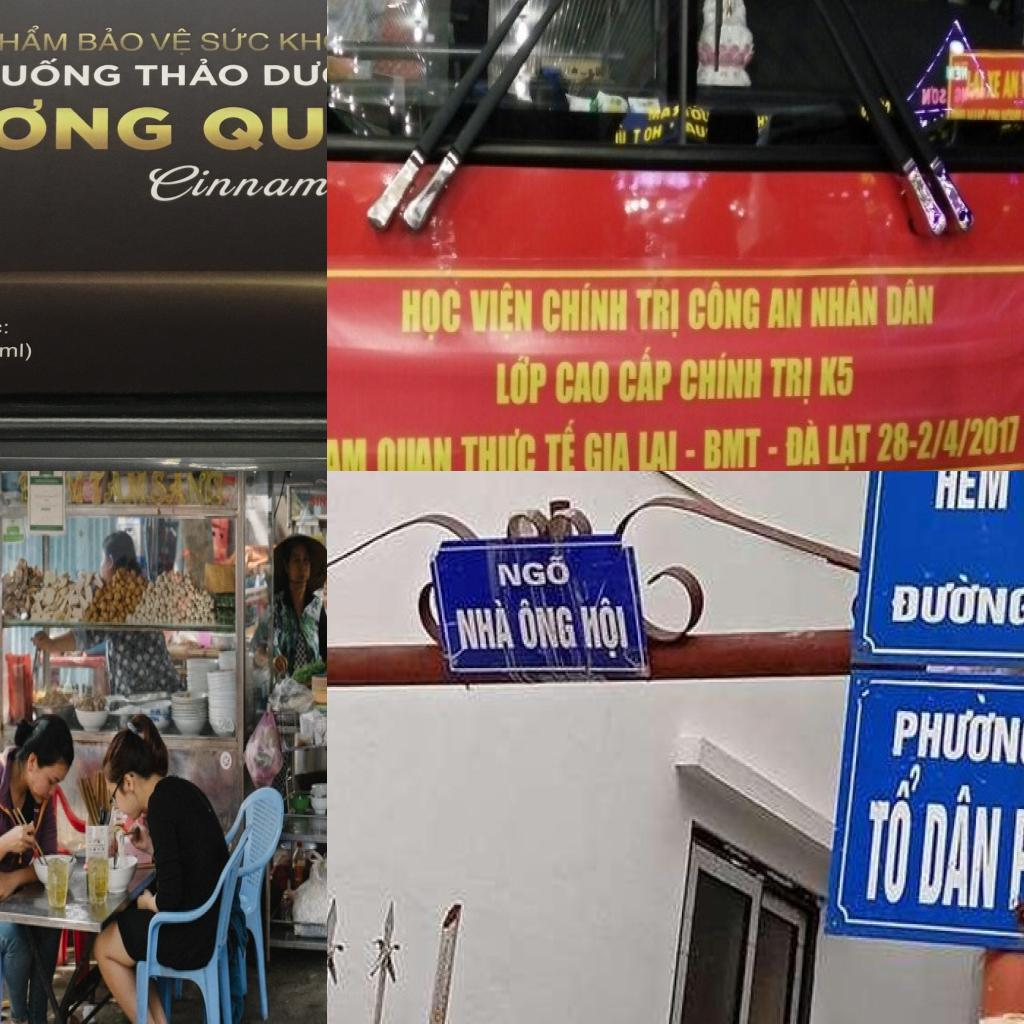text: (912, 780, 1011, 919), (884, 683, 1024, 771), (858, 761, 926, 912), (0, 97, 176, 152), (886, 571, 1024, 635), (143, 158, 327, 204), (199, 92, 327, 154), (915, 409, 1024, 464), (541, 277, 631, 336), (678, 345, 765, 404), (686, 277, 762, 336), (575, 594, 637, 666), (394, 285, 466, 346), (467, 278, 537, 340), (449, 596, 521, 656), (129, 56, 252, 90), (511, 594, 581, 653), (809, 275, 881, 332), (927, 471, 1018, 515), (0, 56, 123, 88), (458, 424, 540, 471), (617, 345, 674, 409), (373, 430, 456, 471), (492, 550, 576, 590), (1002, 776, 1024, 925), (493, 354, 550, 410), (883, 275, 937, 331), (554, 355, 611, 407), (701, 424, 764, 471), (634, 285, 682, 341), (149, 471, 224, 506), (824, 420, 874, 471), (768, 352, 814, 406), (541, 411, 581, 471), (259, 57, 327, 92), (583, 424, 633, 471), (0, 22, 71, 55), (633, 424, 681, 471), (782, 414, 823, 468), (816, 352, 858, 403), (76, 24, 145, 54), (197, 26, 272, 53), (877, 417, 918, 466), (88, 471, 147, 505), (766, 285, 806, 333), (327, 434, 371, 471), (146, 24, 194, 57), (276, 25, 327, 54), (965, 64, 987, 104), (1001, 66, 1022, 102), (986, 66, 1002, 100), (309, 495, 327, 508)
